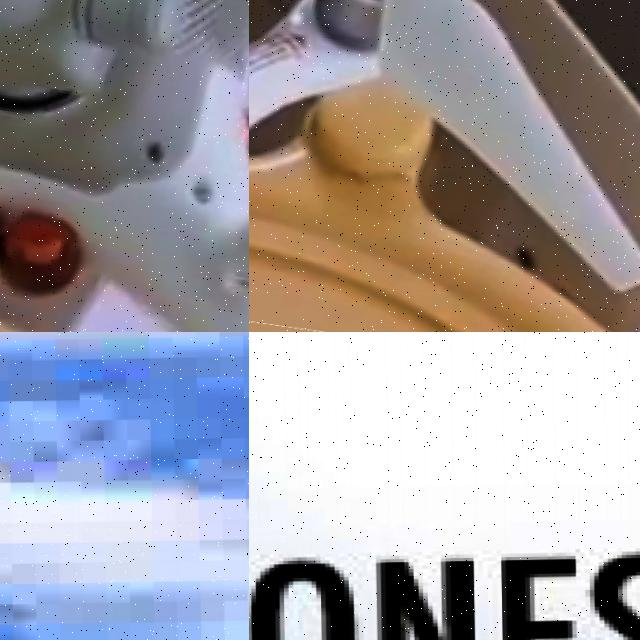drone: (249, 0, 640, 332), (0, 0, 249, 332)
